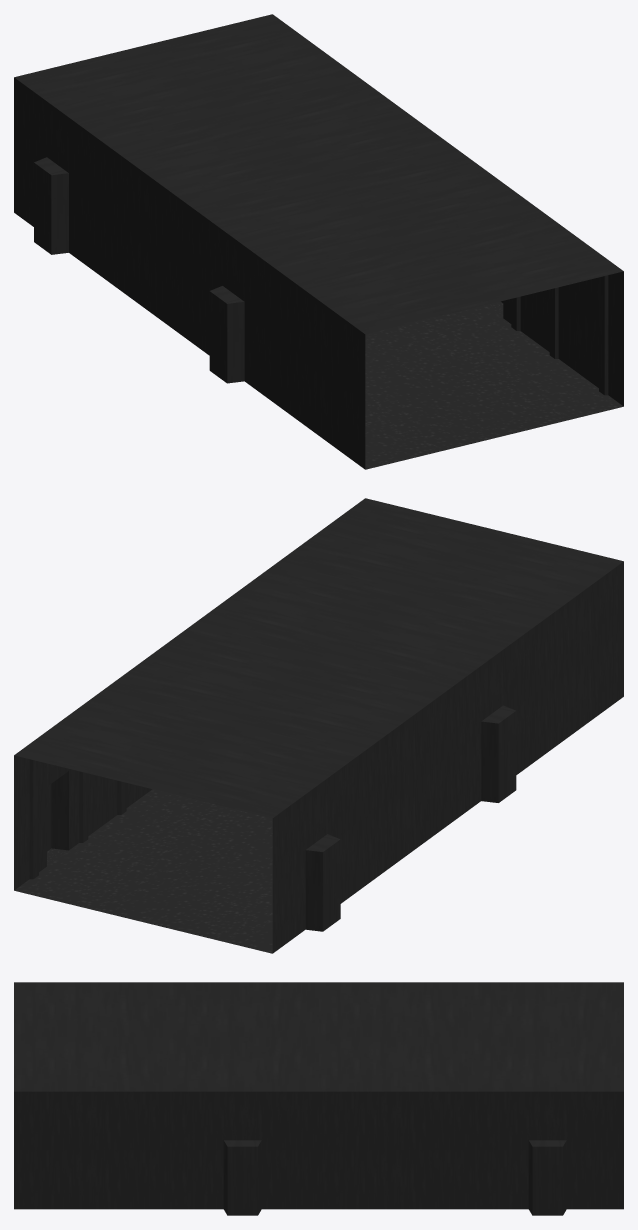
File: SW_ENV_RailTunnel_B_03_Double_20m.fbx
3 renders of one model, top to bottom at view 1: azimuth 30°, elevation 25°; view 2: azimuth 150°, elevation 25°; view 3: azimuth 270°, elevation 25°, orthographic. The views are drawn at different scales.
Parts seen in each view (by area): view 1: SW_ENV_RailTunnel_B_03_Double_20m; view 2: SW_ENV_RailTunnel_B_03_Double_20m; view 3: SW_ENV_RailTunnel_B_03_Double_20m.
Boxes of the visible parts, <box> form: SW_ENV_RailTunnel_B_03_Double_20m: <box>14,14,623,469</box>; SW_ENV_RailTunnel_B_03_Double_20m: <box>14,498,623,953</box>; SW_ENV_RailTunnel_B_03_Double_20m: <box>14,982,623,1215</box>.
Size of the model in its own units: 950 by 425 by 2000.
